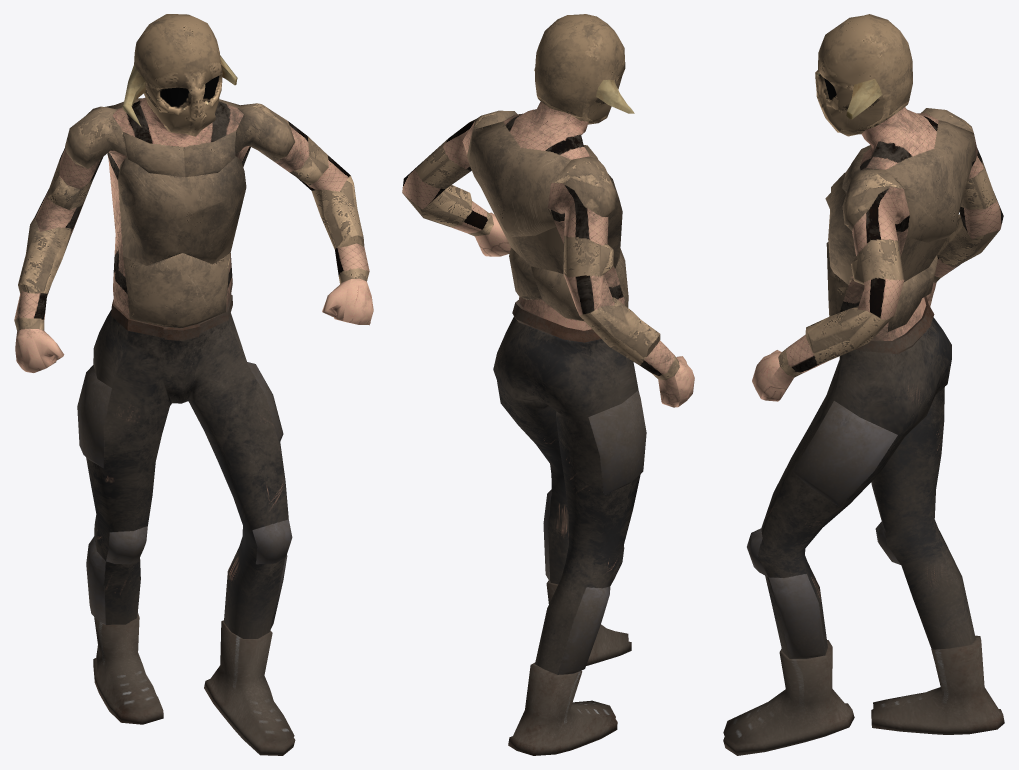
File: Anim_ataque_f1_npc1.0012.obj
3 renders of one model, left to right at view 1: azimuth 30°, elevation 25°; view 2: azimuth 150°, elevation 25°; view 3: azimuth 270°, elevation 25°, orthographic. The views are drawn at different scales.
Visible parts, largest first — view 1: NPC2; view 2: NPC2; view 3: NPC2.
Boxes of the visible parts, <box> form: NPC2: <box>14,14,373,755</box>; NPC2: <box>402,14,694,755</box>; NPC2: <box>723,14,1004,755</box>.
Size of the model in its own units: 4.37 by 9.42 by 3.36.
